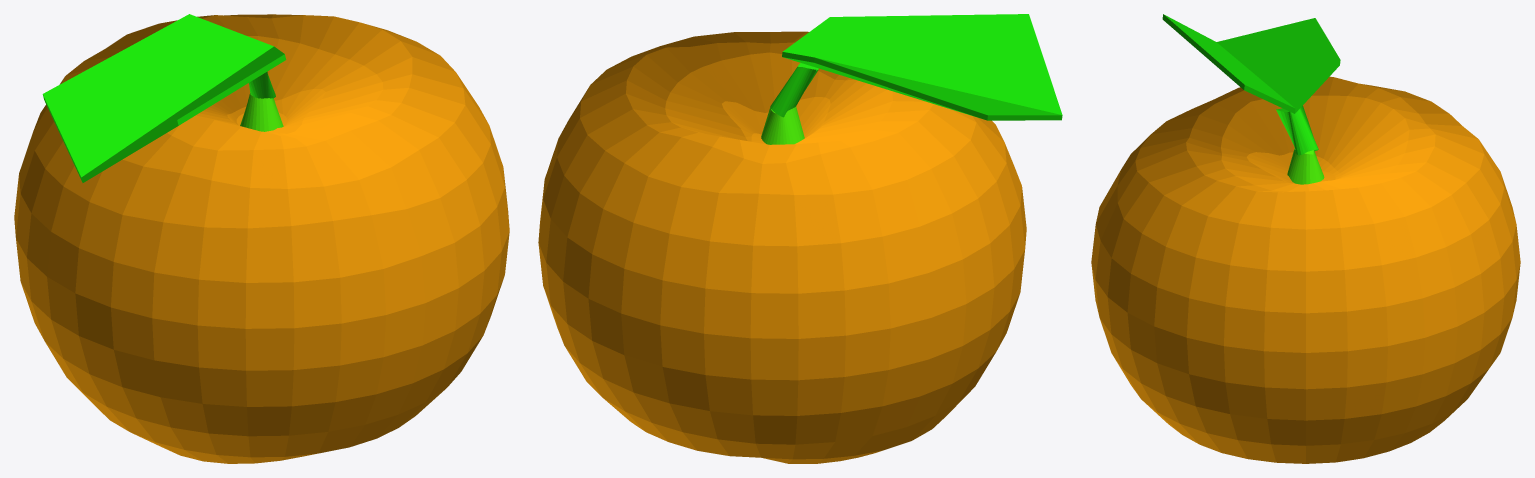
The model's file is orange.fbx.
3 views of the same model, side by side, from view 1: azimuth 30°, elevation 25°; view 2: azimuth 150°, elevation 25°; view 3: azimuth 270°, elevation 25° (orthographic). The views are drawn at different scales.
Visible parts, largest first — view 1: Сфера, Куб, Цилиндр, Цилиндр.001; view 2: Сфера, Куб, Цилиндр, Цилиндр.001; view 3: Сфера, Куб, Цилиндр.001, Цилиндр.
Part boxes in pixels (x1,y1,x2,y2): Сфера: (14, 14, 509, 463); Куб: (42, 14, 286, 182); Цилиндр: (240, 93, 283, 131); Цилиндр.001: (249, 71, 275, 98); Сфера: (538, 31, 1026, 463); Куб: (782, 14, 1062, 120); Цилиндр: (761, 106, 804, 144); Цилиндр.001: (770, 63, 818, 117); Сфера: (1091, 76, 1520, 463); Куб: (1162, 14, 1340, 113); Цилиндр.001: (1276, 105, 1318, 155); Цилиндр: (1287, 148, 1324, 184).
Bounding box in the file's own units: 208 × 176 × 200.
